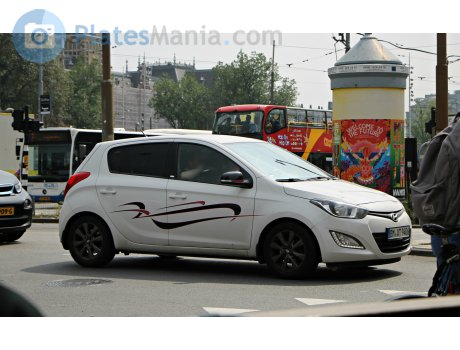License Plates: (389, 228, 415, 235)
